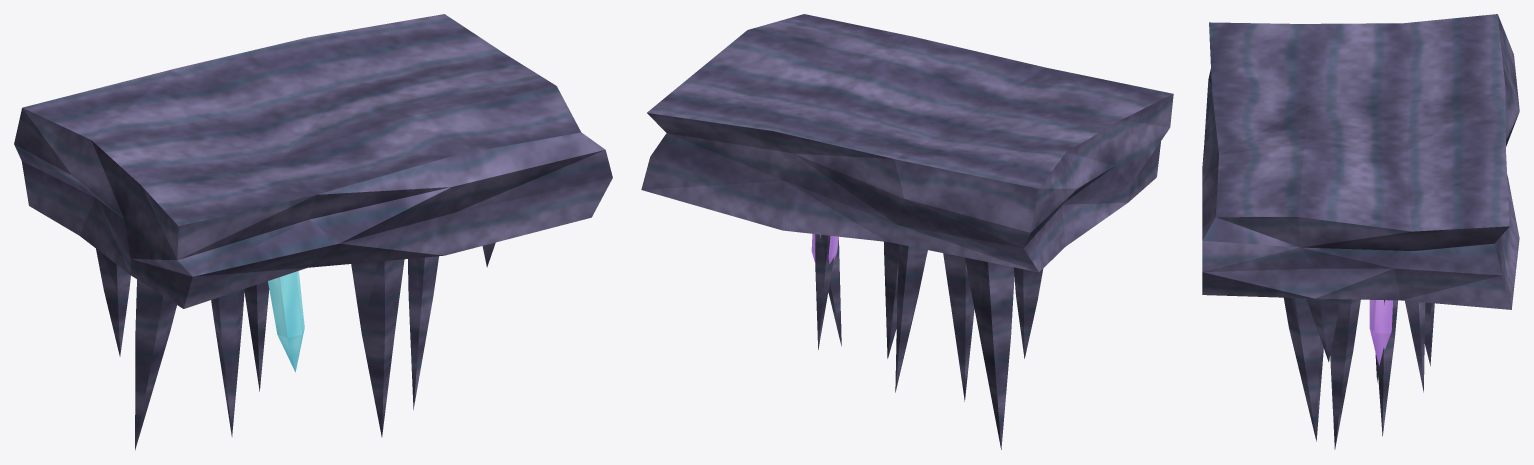
The model's file is stalactites.glb.
3 views of the same model, side by side, from view 1: azimuth 30°, elevation 25°; view 2: azimuth 150°, elevation 25°; view 3: azimuth 270°, elevation 25° (orthographic). The views are drawn at different scales.
Parts seen in each view (by area): view 1: stalactites; view 2: stalactites; view 3: stalactites.
Boxes of the visible parts, x1,y1,x2,y2 form: stalactites: (14,14,612,450); stalactites: (641,14,1173,449); stalactites: (1202,14,1519,449).
Bounding box in the file's own units: 3.6 × 2.65 × 2.41.
3 materials, 3 textured.
